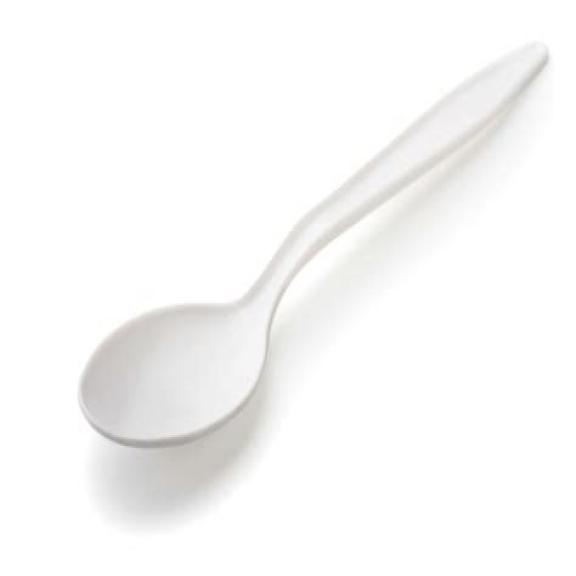Plastik: (79, 44, 546, 445)
